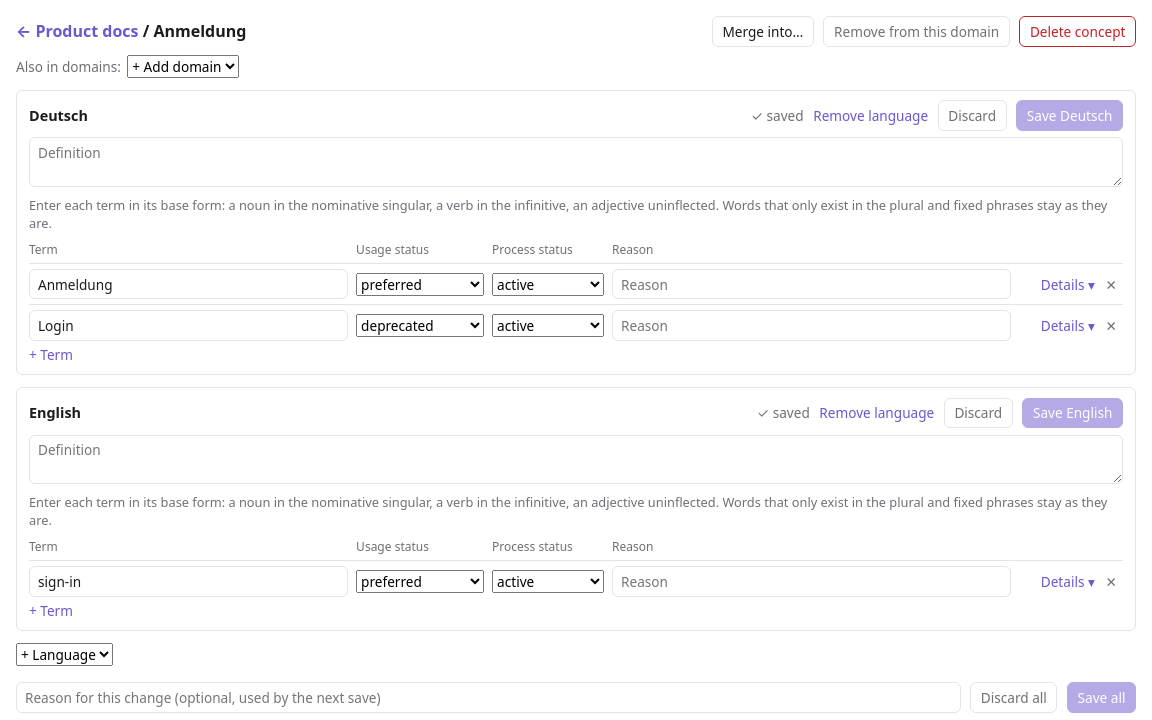
Test: ConceptEntry checks before sending › disables the section save and shows the reason for a language without terms
The image size is (1152, 720).
Click the 3rd button "✕": point(1111, 581) [1100,571,1123,592]
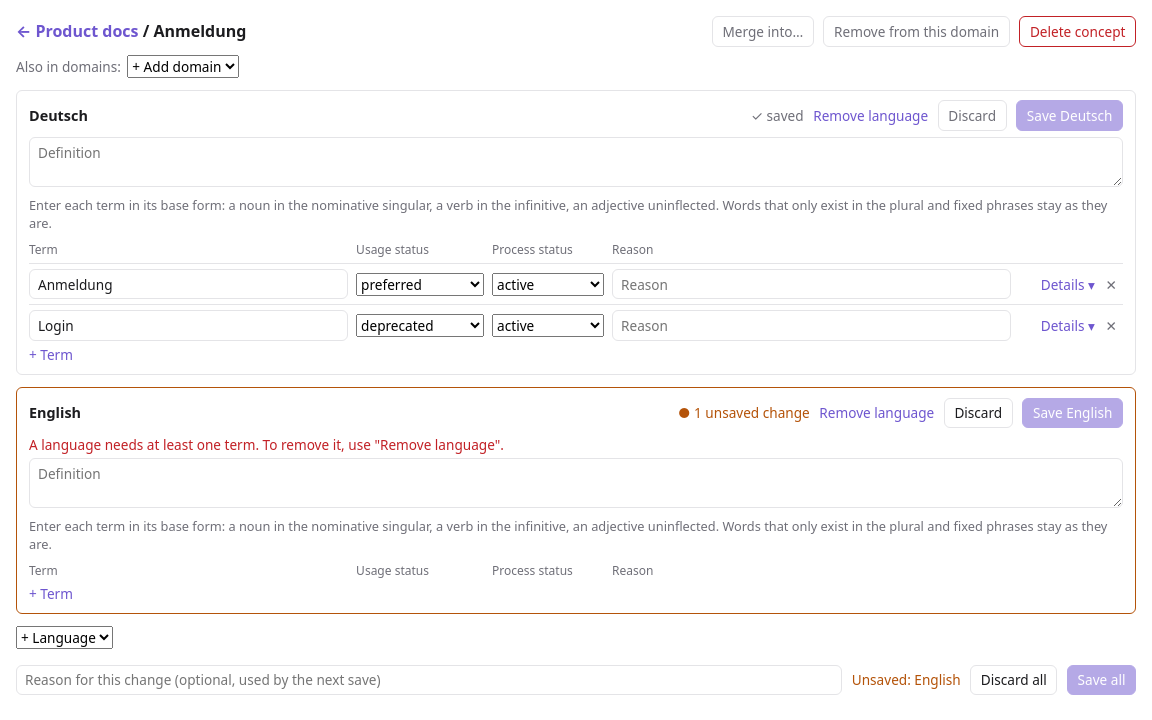
Expected: the button "Save all" is disabled, [1067,665,1136,695]
Now the text "A language needs at least one term. To remove it, use \"Remove language\"." is shown, box [29,434,504,454]
